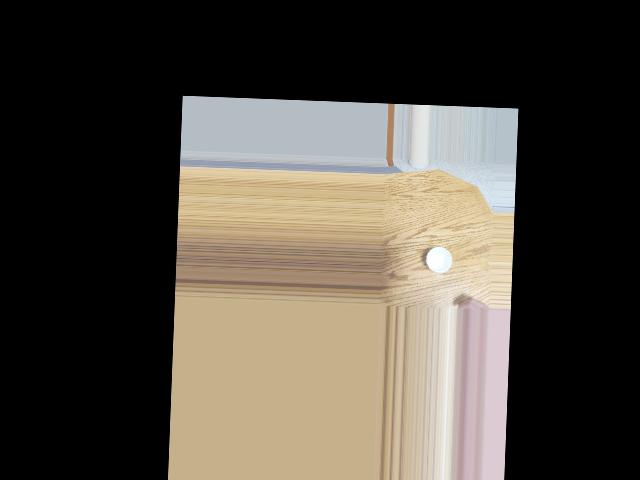cotage: (426, 246, 455, 277)
